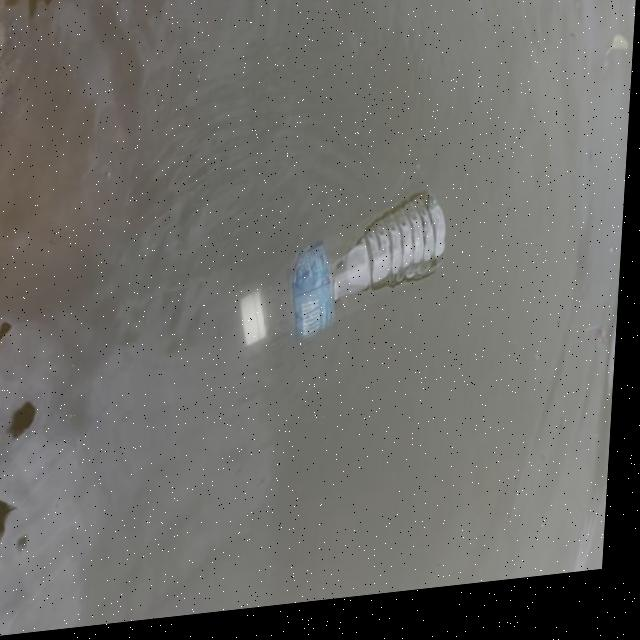waterbottle: (205, 181, 447, 395)
